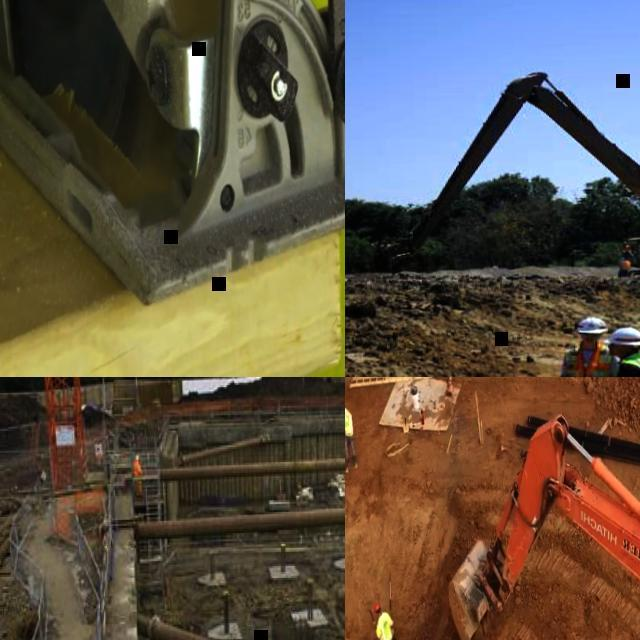helmet: (603, 326, 640, 346), (577, 318, 607, 334), (374, 602, 379, 611), (135, 454, 139, 460), (619, 257, 625, 260), (622, 240, 627, 243)
vest: (561, 348, 612, 377), (132, 454, 142, 501), (377, 611, 392, 640), (345, 409, 352, 435), (132, 460, 138, 476), (620, 260, 630, 269), (620, 244, 630, 252)
